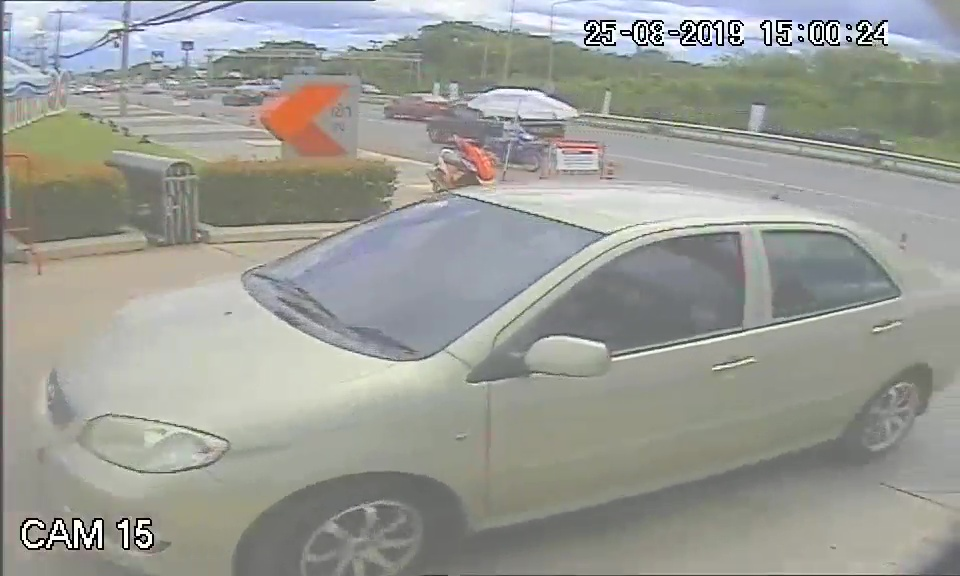sedan: (28, 183, 958, 576)
